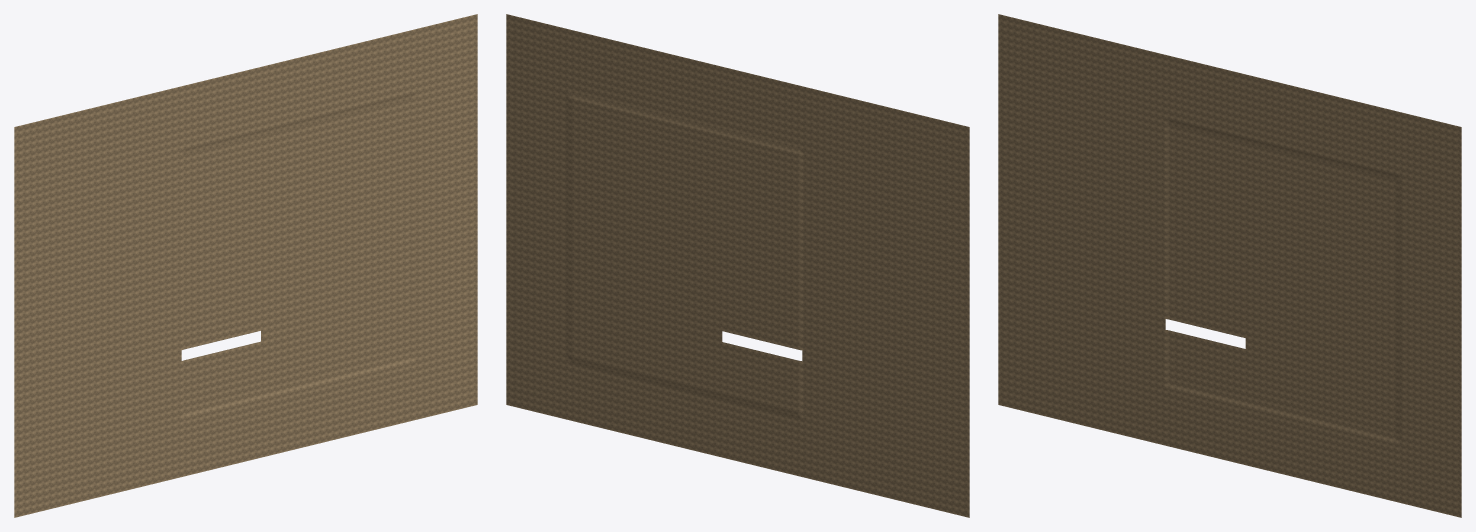
The model's file is terrain.obj.
3 renders of one model, left to right at view 1: azimuth 30°, elevation 25°; view 2: azimuth 150°, elevation 25°; view 3: azimuth 330°, elevation 25°, orthographic.
Visible parts, largest first — view 1: terrain; view 2: terrain; view 3: terrain.
Part boxes in pixels (bbox=[...]): terrain: bbox=[14, 14, 477, 517]; terrain: bbox=[506, 14, 969, 517]; terrain: bbox=[998, 14, 1461, 517].
Size of the model in its own units: 360 by 290 by 0.4.
Materials: 1 (1 with a texture image).
